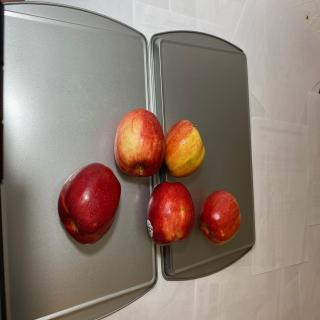Apple: (58, 162, 121, 245), (114, 108, 165, 177), (146, 181, 194, 246), (164, 119, 205, 178), (198, 190, 241, 245)
